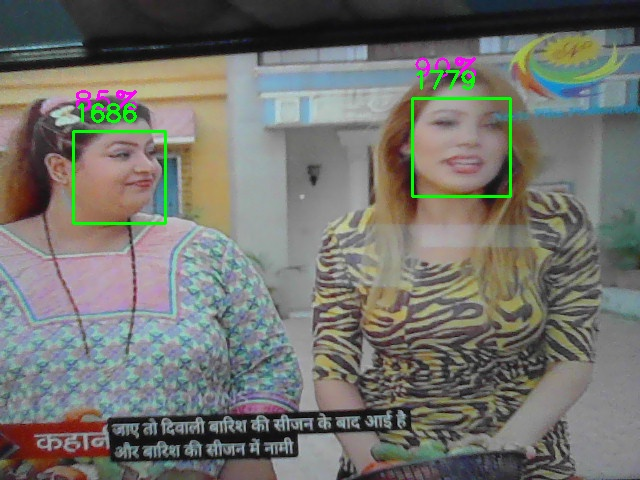fake: (412, 98, 511, 197), (73, 131, 166, 224)
